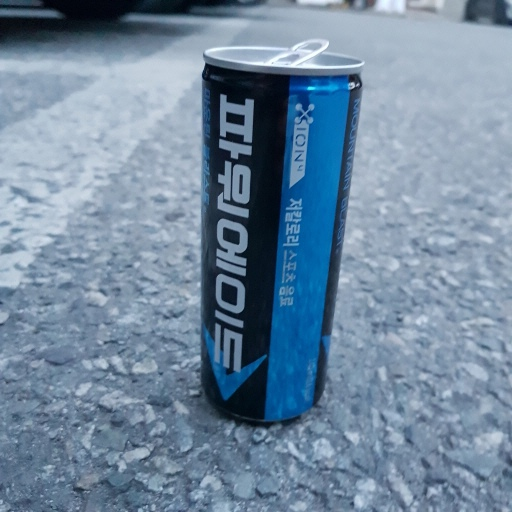Metal_0: (195, 37, 367, 427)
